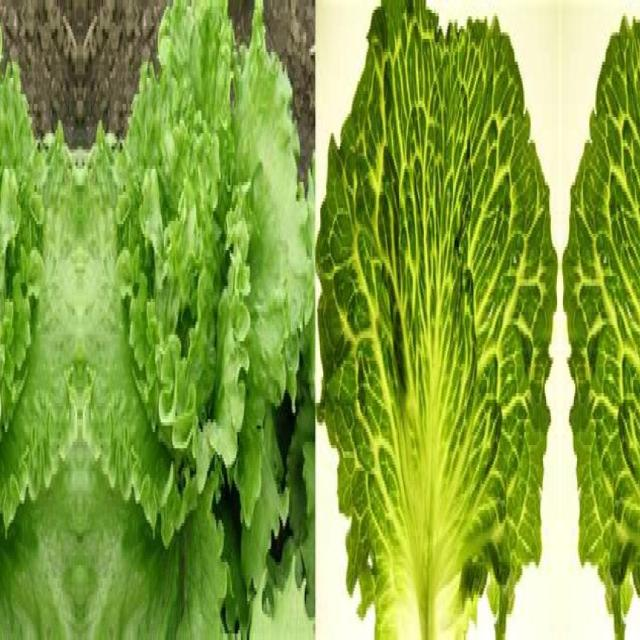healthy: (314, 0, 560, 640), (80, 0, 316, 640), (0, 0, 80, 640), (560, 0, 640, 640)
